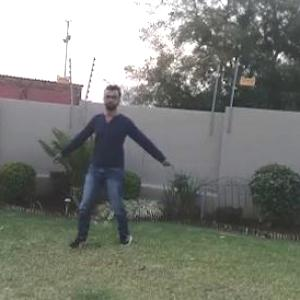land: (63, 91, 169, 231)
